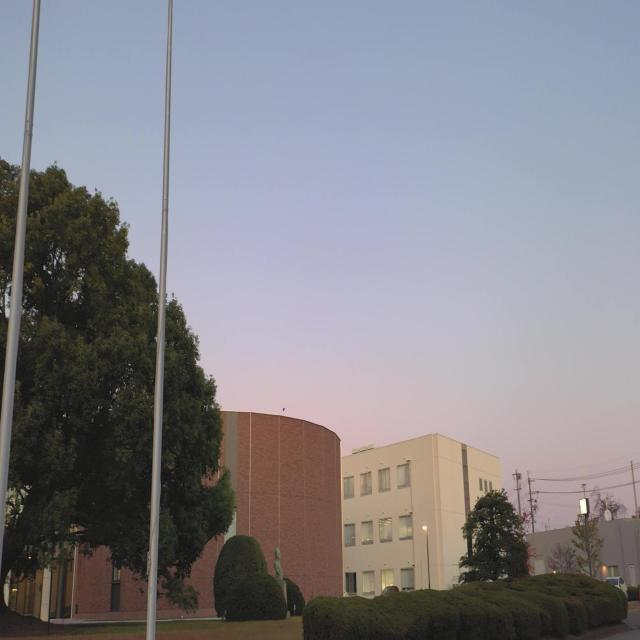Birds: (280, 405, 288, 413)
